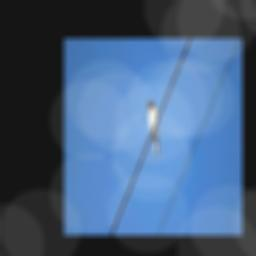Swallow: (147, 99, 160, 159)
